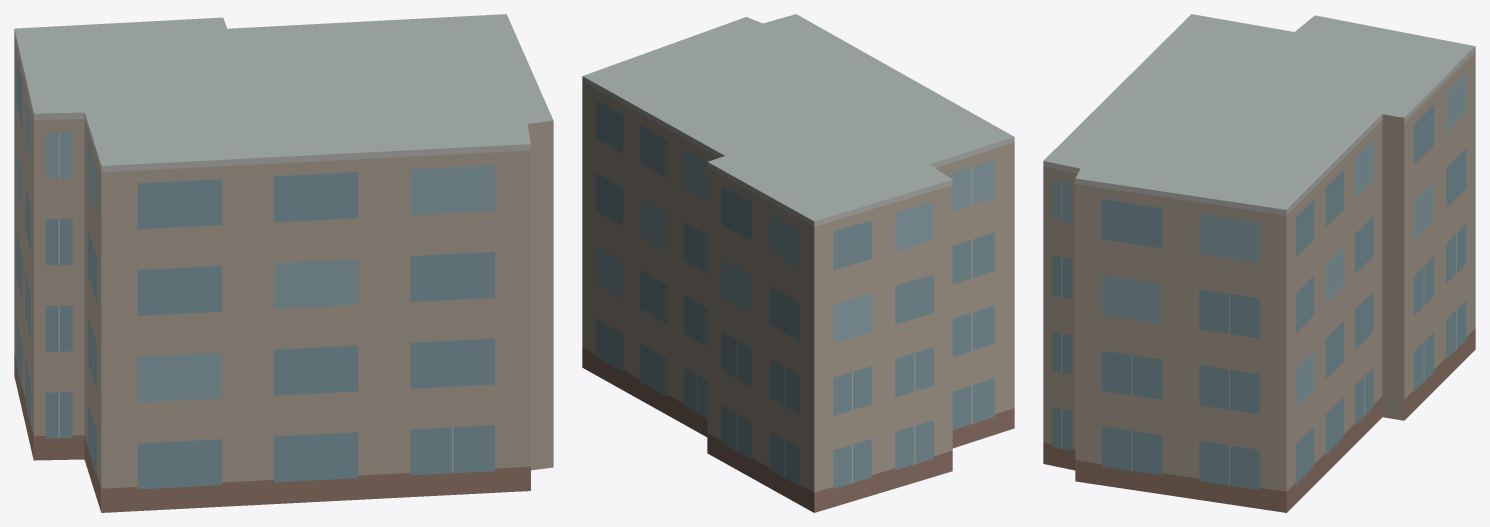
The model's file is survey-upis-32606894.glb.
The picture shows the model from 3 angles, left to right: view 1: azimuth 30°, elevation 25°; view 2: azimuth 150°, elevation 25°; view 3: azimuth 270°, elevation 25°; orthographic projection. The views are drawn at different scales.
Visible parts, largest first — view 1: survey-upis-32606894.tmp; view 2: survey-upis-32606894.tmp; view 3: survey-upis-32606894.tmp.
Boxes of the visible parts, x1=… form: survey-upis-32606894.tmp: x1=14, y1=14, x2=553, y2=512; survey-upis-32606894.tmp: x1=582, y1=14, x2=1014, y2=512; survey-upis-32606894.tmp: x1=1043, y1=14, x2=1475, y2=512.
Bounding box in the file's own units: 18.32 × 13.2 × 17.08.
